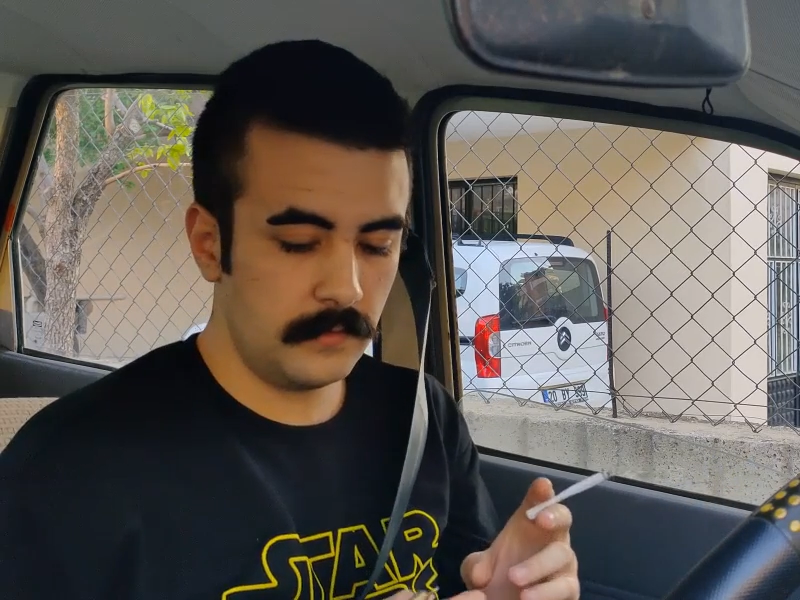sigara: (521, 461, 620, 526)
